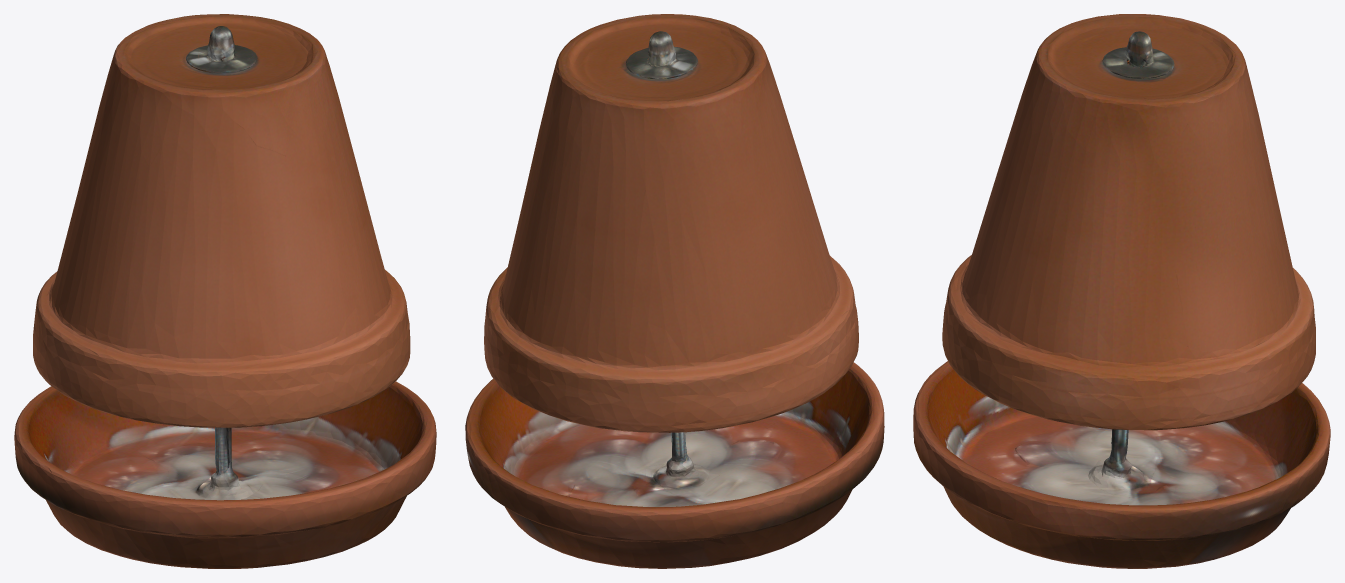
File: 88981269-BEA8-0D4D-8E64-1DB7CB0B7F14_2k.glb
3 renders of one model, left to right at view 1: azimuth 30°, elevation 25°; view 2: azimuth 150°, elevation 25°; view 3: azimuth 270°, elevation 25°, orthographic.
Visible parts, largest first — view 1: Teelichtofen_12k_2k; view 2: Teelichtofen_12k_2k; view 3: Teelichtofen_12k_2k.
Part boxes in pixels (bbox=[...]): Teelichtofen_12k_2k: bbox=[14, 14, 436, 568]; Teelichtofen_12k_2k: bbox=[465, 14, 884, 568]; Teelichtofen_12k_2k: bbox=[913, 14, 1330, 568].
Size of the model in its own units: 0.1969 by 0.2489 by 0.197.
Materials: 1 (1 with a texture image).
